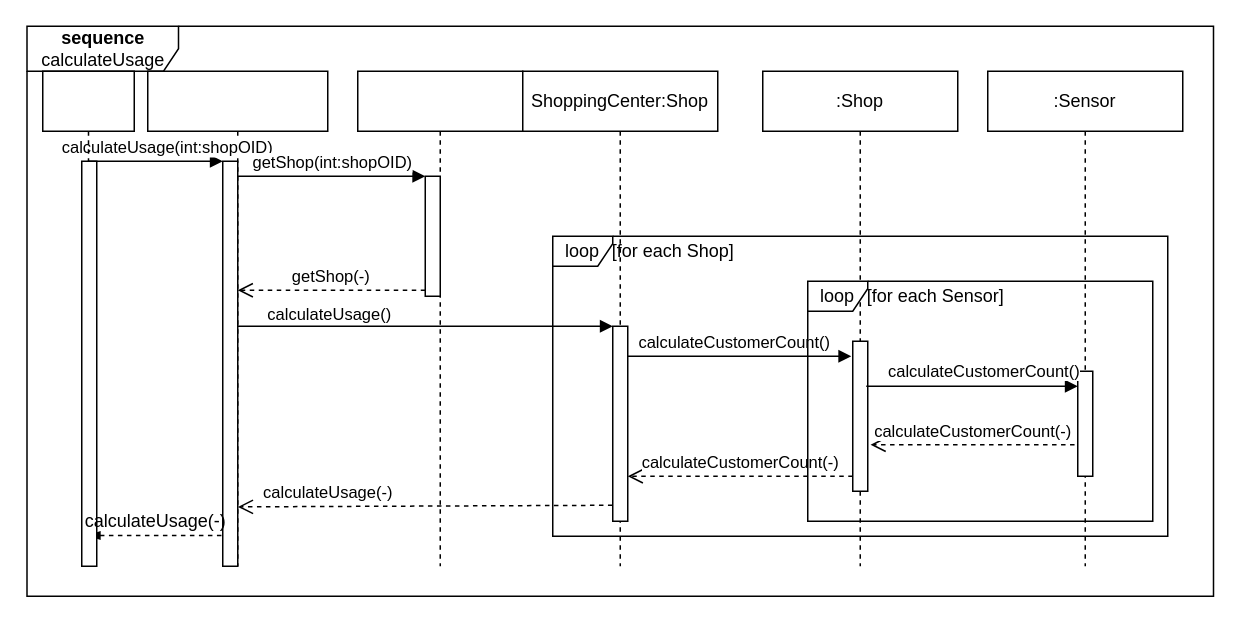
Some shapes in this 1239 by 623 pixel diagram are drawn without their labels. The shapes that lost their labels are listed below. From the top down, each one's box as (x1, y1, x2, y2) in pixels, then its label:
(41, 70, 134, 566): :Client
(146, 70, 328, 566): :SmartShopService
(356, 70, 523, 566): :DatenbankService
